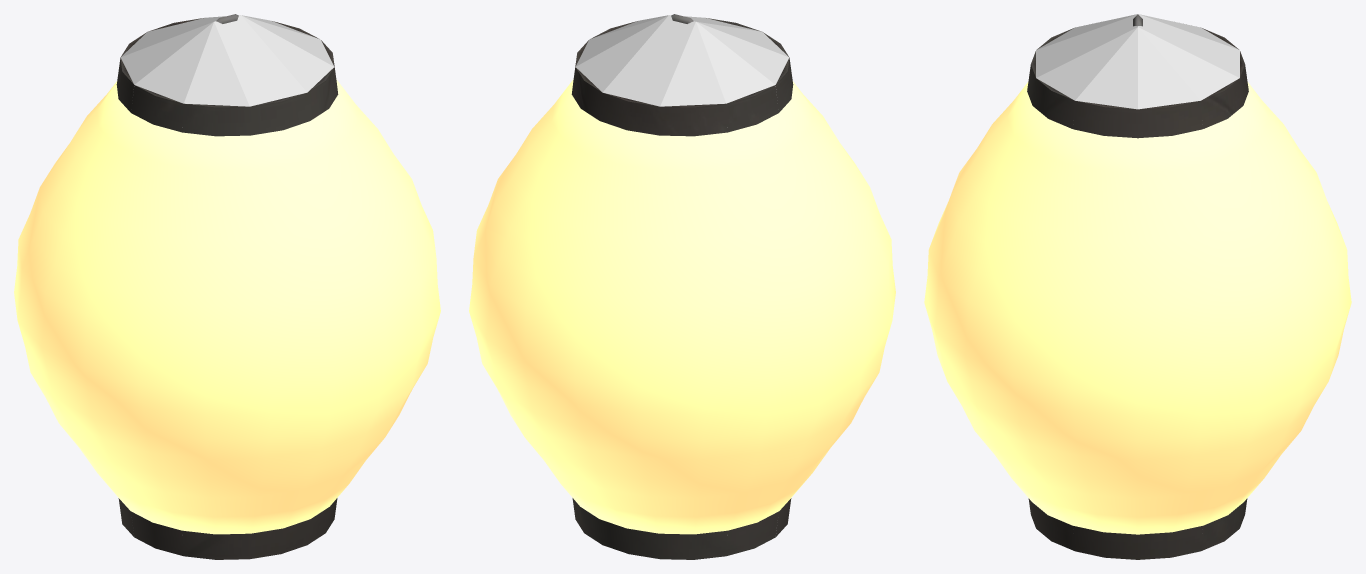
The model's file is lantern_paper.webp.glb.
The picture shows the model from 3 angles, left to right: view 1: azimuth 30°, elevation 25°; view 2: azimuth 150°, elevation 25°; view 3: azimuth 270°, elevation 25°; orthographic projection.
Visible parts, largest first — view 1: LOD0_paper, COL, LOD0_body; view 2: LOD0_paper, COL, LOD0_body; view 3: LOD0_paper, COL, LOD0_body.
Part boxes in pixels (<box>): LOD0_paper: <box>14,79,440,534</box>; COL: <box>120,15,334,536</box>; LOD0_body: <box>116,14,338,559</box>; LOD0_paper: <box>469,79,895,534</box>; COL: <box>575,15,789,536</box>; LOD0_body: <box>571,14,793,559</box>; LOD0_paper: <box>924,82,1351,534</box>; COL: <box>1036,14,1239,109</box>; LOD0_body: <box>1027,14,1248,559</box>.
Bounding box in the file's own units: 0.4987 × 0.6392 × 0.4987.
Materials: 2 (1 with a texture image).
